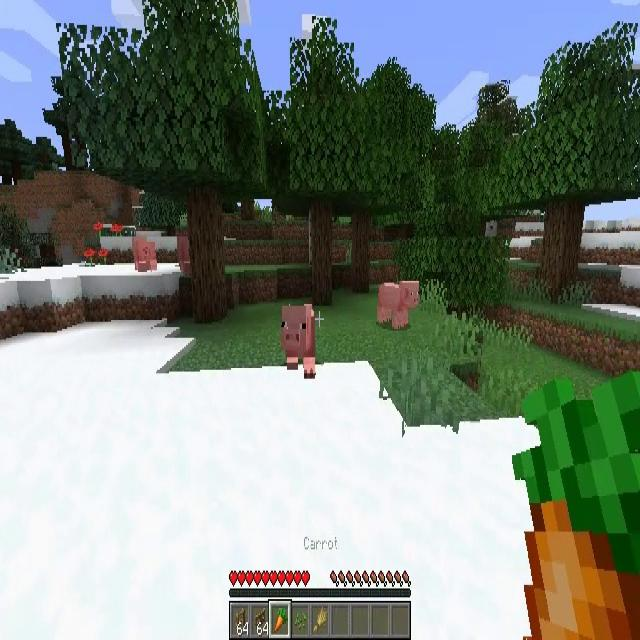pig: (280, 302, 316, 379), (376, 280, 419, 328), (132, 232, 157, 272)
